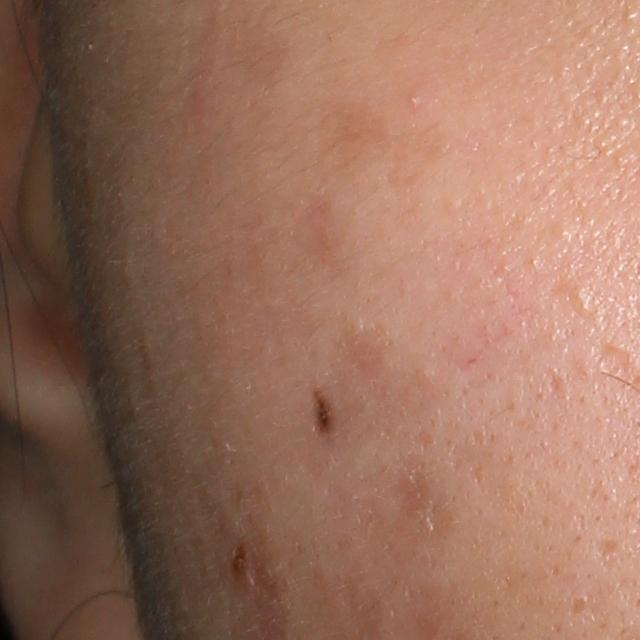atrophic_scar: (594, 536, 619, 561)
comedo: (575, 288, 595, 314), (404, 95, 423, 108)
nevus: (312, 386, 338, 439)
